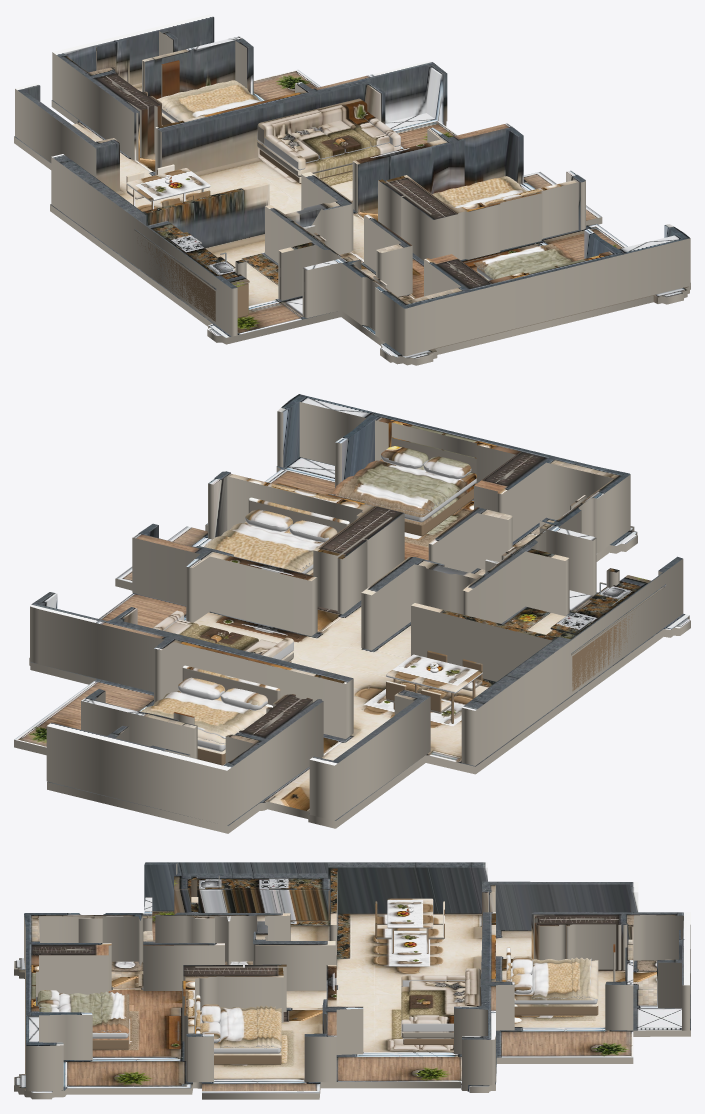
Rendered from p2-04-u04-2112-image-model.glb.
The picture shows the model from 3 angles, top to bottom: view 1: azimuth 30°, elevation 25°; view 2: azimuth 150°, elevation 25°; view 3: azimuth 270°, elevation 25°; orthographic projection. The views are drawn at different scales.
Parts seen in each view (by area): view 1: Partition walls, Apartment floor, Kitchen cabinets, Sofa back, Marble dining top, Draped bed linen, Upholstered sofa frame, Stone worktop, Draped bed linen.004, Draped bed linen.005, Seat cushion.001, Seat cushion.002 (+6 smaller); view 2: Partition walls, Apartment floor, Draped bed linen.004, Draped bed linen.002, Draped bed linen, Marble dining top, Kitchen cabinets, Stone worktop, Draped bed linen.005, Draped bed linen.003, Upholstered headboard, Upholstered headboard.001 (+10 smaller); view 3: Partition walls, Apartment floor, Kitchen cabinets, Stone worktop, Draped bed linen, Draped bed linen.002, Marble dining top, Draped bed linen.004, Walnut upholstered base, Draped bed linen.005, Walnut upholstered base.001, Draped bed linen.001 (+13 smaller).
Boxes of the visible parts, x1,y1,x2,y2 form: Partition walls: (15, 14, 690, 356); Apartment floor: (14, 69, 690, 365); Kitchen cabinets: (137, 240, 248, 321); Sofa back: (257, 98, 367, 143); Marble dining top: (126, 168, 210, 201); Draped bed linen: (157, 81, 260, 120); Upholstered sofa frame: (257, 140, 400, 177); Stone worktop: (134, 221, 249, 290); Draped bed linen.004: (474, 244, 577, 279); Draped bed linen.005: (477, 243, 569, 273); Seat cushion.001: (291, 127, 344, 159); Seat cushion.002: (317, 120, 370, 152); Partition walls: (30, 394, 683, 825); Apartment floor: (14, 457, 690, 833); Draped bed linen.004: (331, 460, 466, 514); Draped bed linen.002: (205, 523, 323, 572); Draped bed linen: (153, 692, 263, 743); Marble dining top: (386, 654, 482, 693); Kitchen cabinets: (572, 614, 632, 691); Stone worktop: (546, 575, 666, 655); Draped bed linen.005: (335, 476, 441, 510); Draped bed linen.003: (204, 536, 311, 570); Upholstered headboard: (182, 665, 280, 705); Upholstered headboard.001: (248, 497, 349, 532); Partition walls: (24, 862, 690, 1091); Apartment floor: (14, 910, 690, 1099); Kitchen cabinets: (174, 890, 329, 921); Stone worktop: (174, 873, 329, 889); Draped bed linen: (532, 959, 598, 999); Draped bed linen.002: (220, 1007, 281, 1048); Marble dining top: (387, 898, 433, 928); Draped bed linen.004: (59, 993, 129, 1033); Walnut upholstered base: (514, 999, 598, 1015); Draped bed linen.005: (100, 991, 122, 1032); Walnut upholstered base.001: (214, 1048, 281, 1064); Draped bed linen.001: (571, 957, 591, 997).
Size of the model in its own units: 10.27 by 1.3 by 15.41.
Materials: 13 (3 with a texture image).
